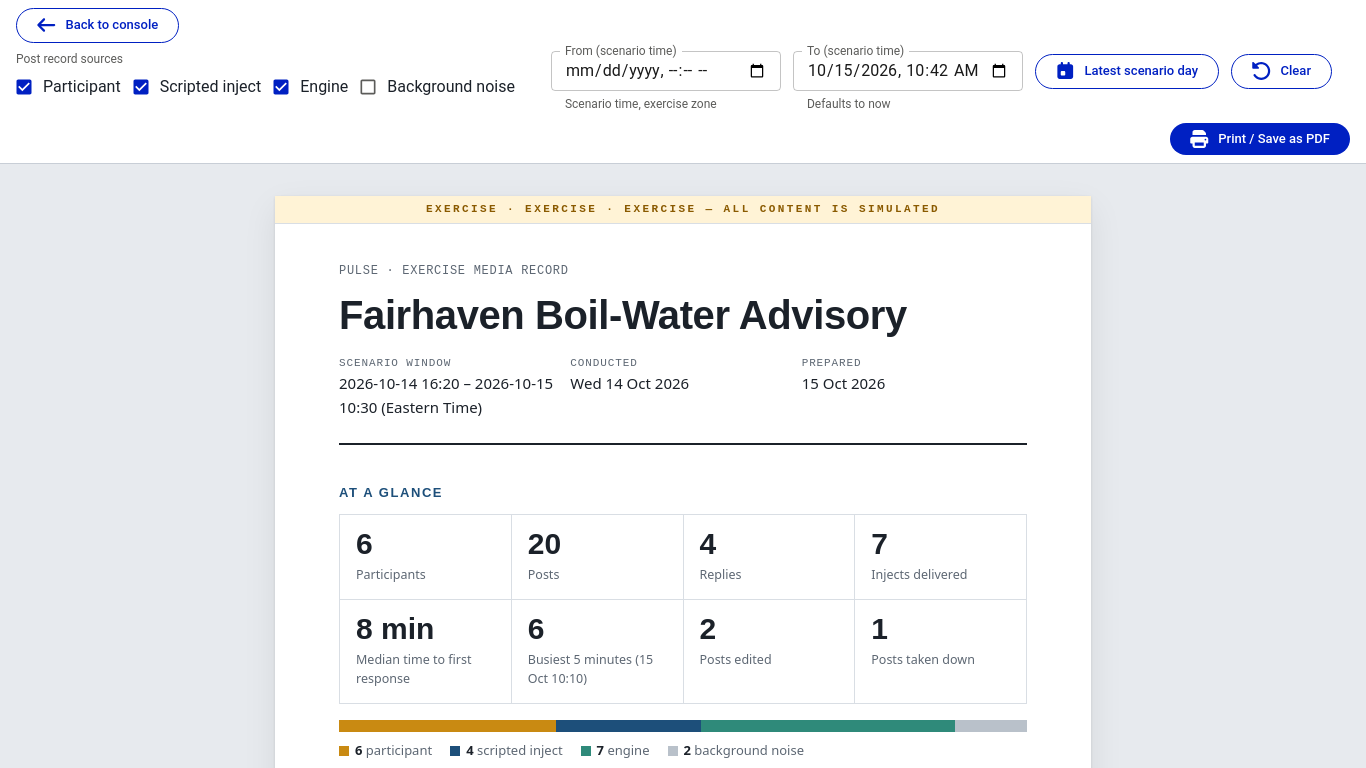
Scenario: ExerciseReportPage › story 30 filters › refetches with the right sources when one is unticked
Click the checkbox labelled "Engine" at (310, 87), box [271,77,348,97]
(page scrolled)
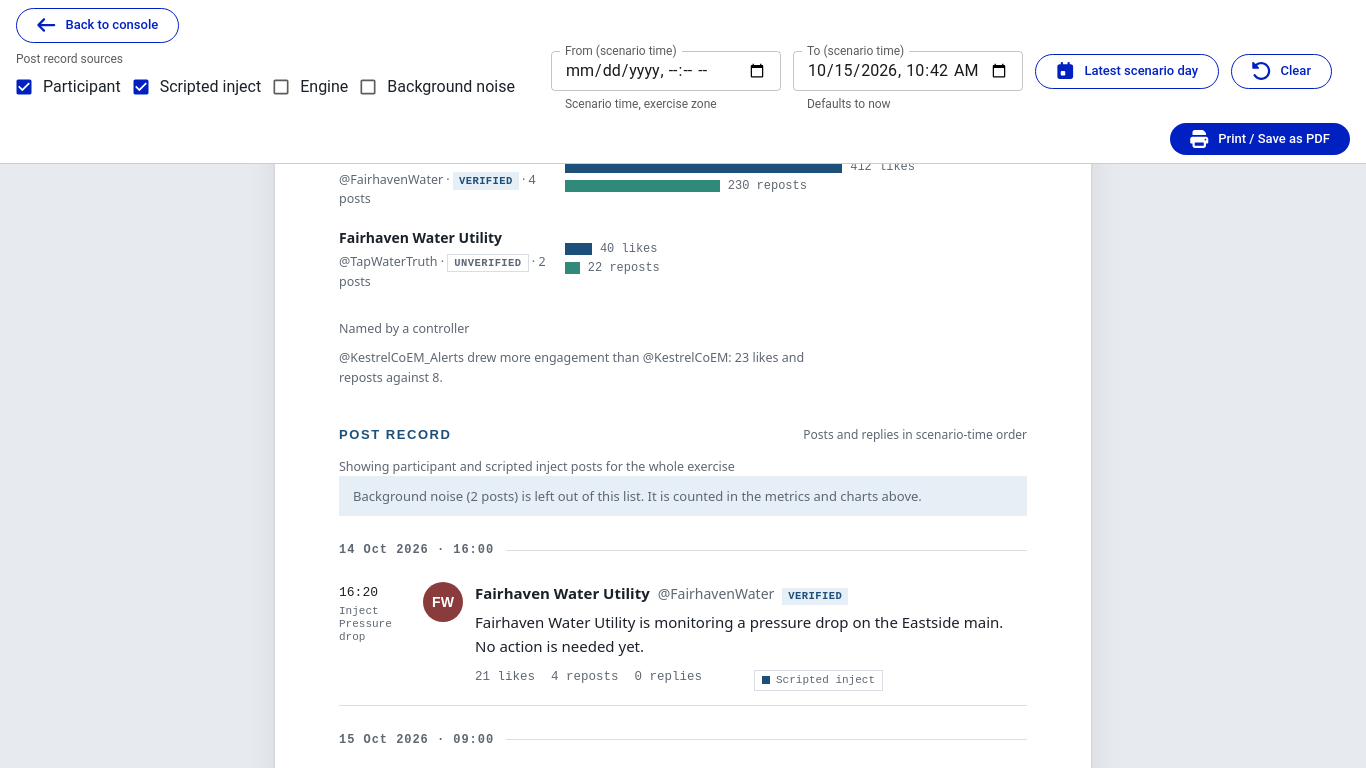
Result: the text with test id "filter-statement" reads "Showing participant and scripted inject posts for the whole exercise" at [339,458,735,475]
